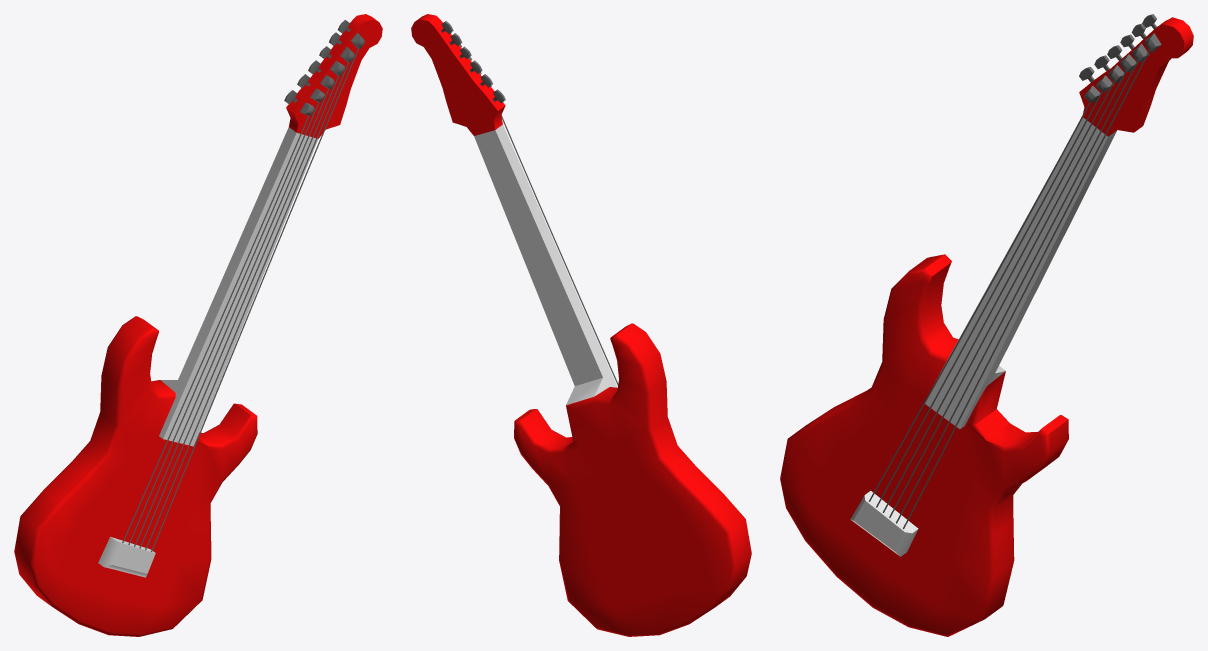
The model's file is gita.fbx.
3 views of the same model, side by side, from view 1: azimuth 30°, elevation 25°; view 2: azimuth 150°, elevation 25°; view 3: azimuth 330°, elevation 25° (orthographic). The views are drawn at different scales.
Parts seen in each view (by area): view 1: Instrument, String, Strin, Stri, Str, St, S; view 2: Instrument, S; view 3: Instrument, String, Strin, Stri, Str, St, S.
Boxes of the visible parts, x1=… form: Instrument: x1=14, y1=14, x2=382, y2=636; String: x1=151, y1=47, x2=359, y2=551; Strin: x1=145, y1=61, x2=349, y2=550; Stri: x1=139, y1=75, x2=339, y2=548; Str: x1=134, y1=88, x2=329, y2=546; St: x1=128, y1=101, x2=319, y2=544; S: x1=122, y1=115, x2=309, y2=542; Instrument: x1=411, y1=14, x2=751, y2=636; S: x1=501, y1=115, x2=618, y2=385; Instrument: x1=780, y1=14, x2=1193, y2=636; String: x1=903, y1=51, x2=1149, y2=528; Strin: x1=896, y1=62, x2=1137, y2=523; Stri: x1=889, y1=72, x2=1125, y2=517; Str: x1=882, y1=81, x2=1114, y2=512; St: x1=876, y1=91, x2=1102, y2=507; S: x1=869, y1=102, x2=1090, y2=501.
Size of the model in its own units: 3.12 by 4.89 by 0.4322.
